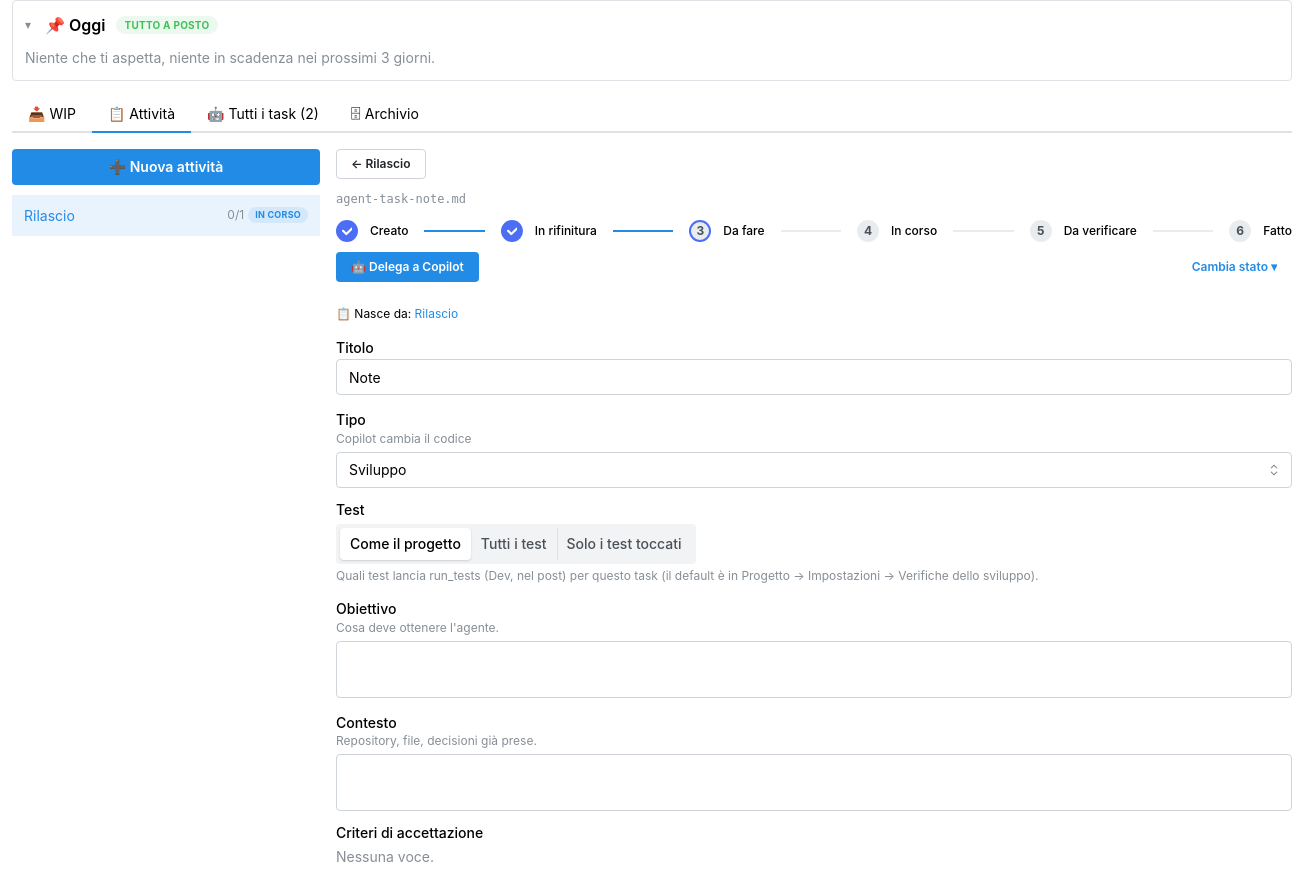
Scenario: «Lavoro» › a task born from an activity opens inside it; one born from nothing in «Tutti i task»
Expected: the tab "📋 Attività" is shown, [92, 97, 191, 133]
Click the button "← Rilascio" at (381, 164), box [336, 149, 426, 179]
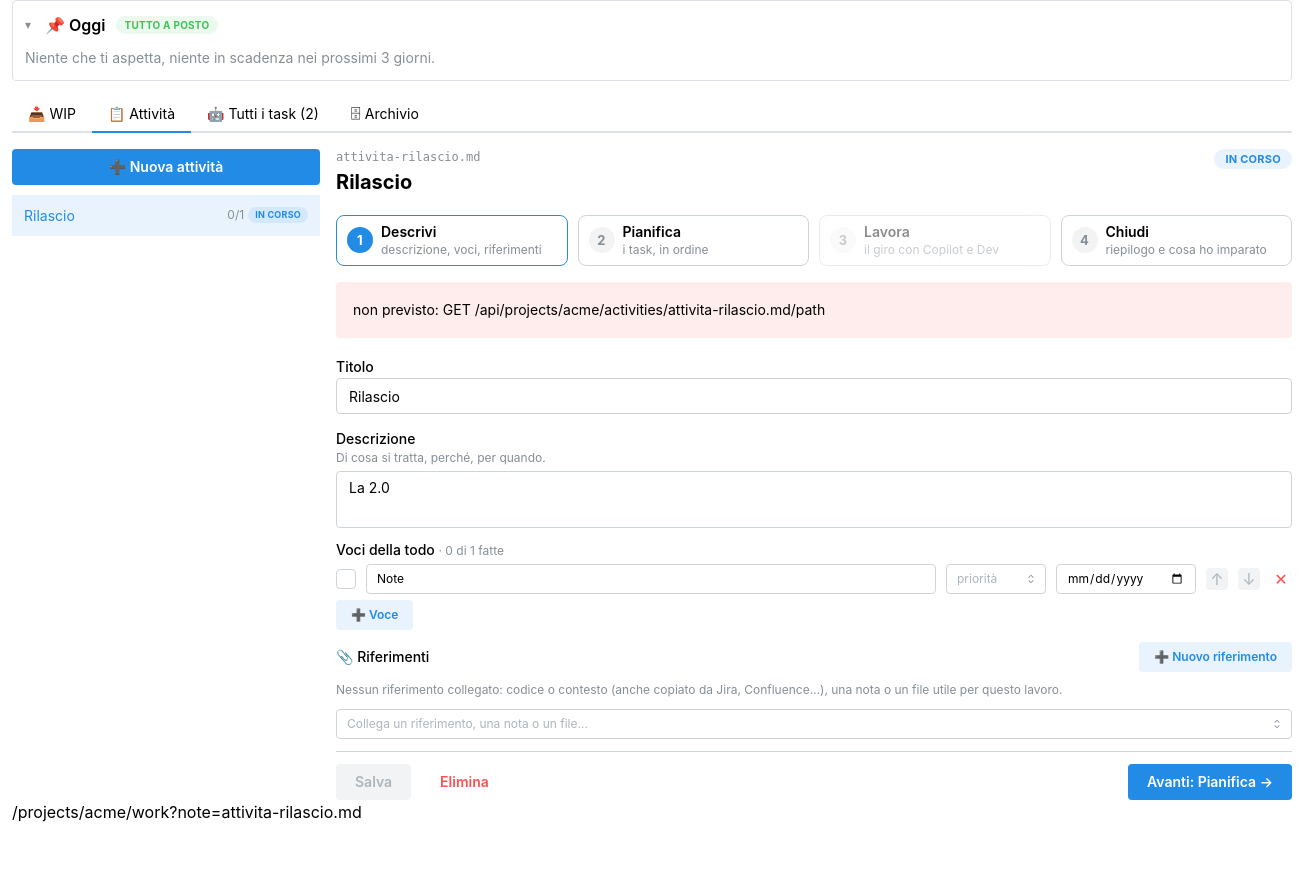
Expected: the text box showing "La 2.0" is shown, [336, 471, 1292, 528]
Click the tab "🤖 Tutti i task (2)" at (263, 115), box [191, 97, 335, 133]
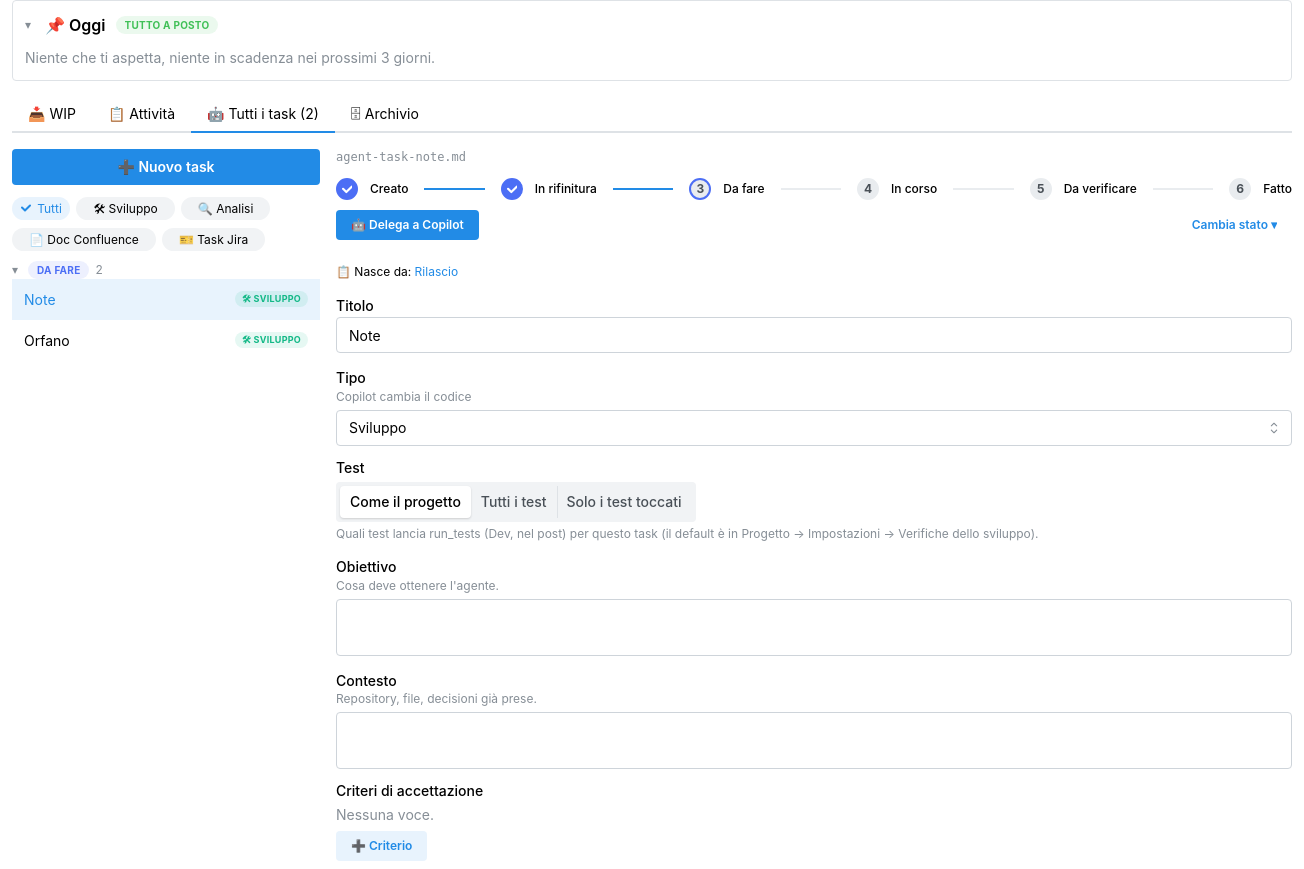
Click the text "Orfano" at (47, 340), box [24, 332, 70, 349]
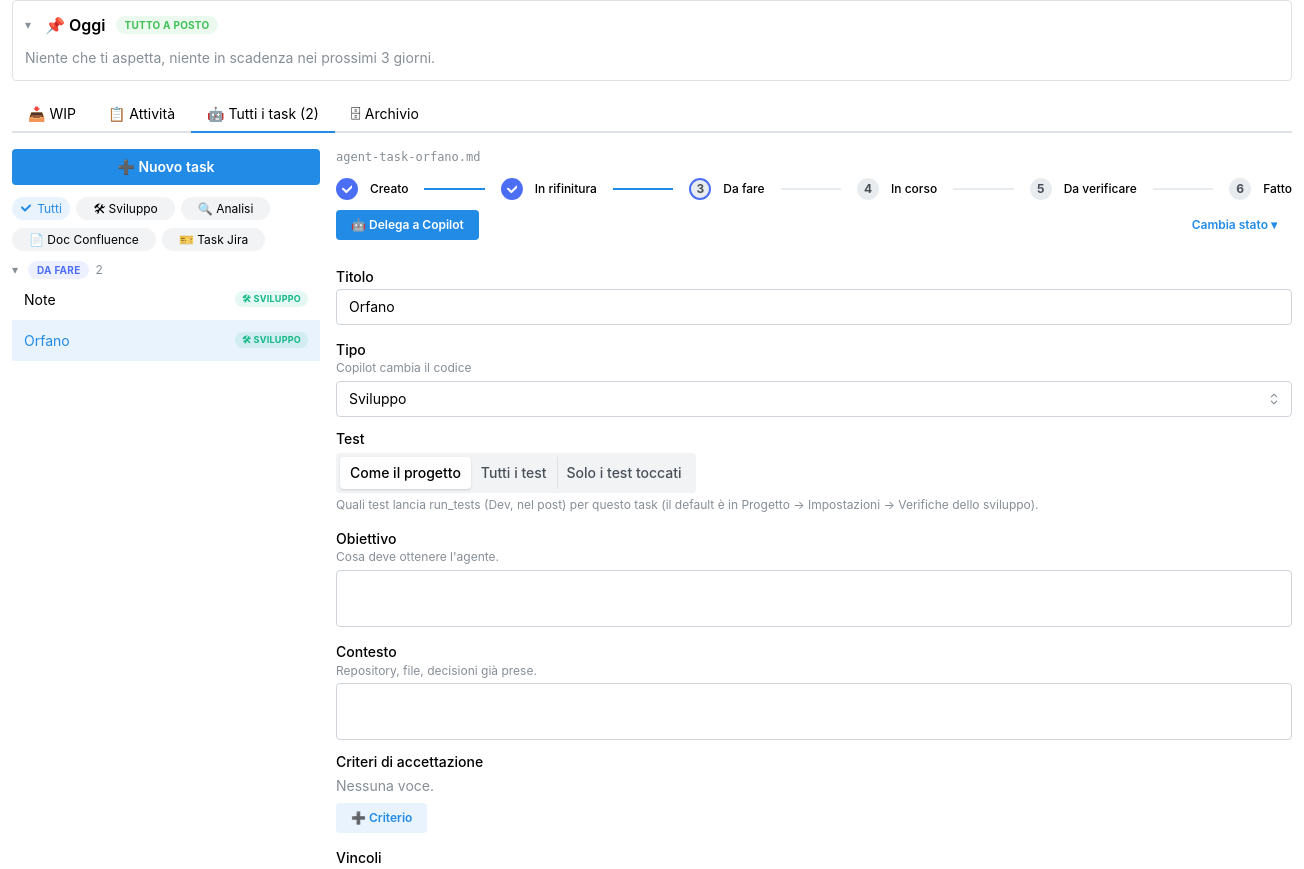
Expected: the tab "🤖 Tutti i task (2)" is shown, [191, 97, 335, 133]
Expected: the field showing "Orfano" is shown, [336, 289, 1292, 325]
